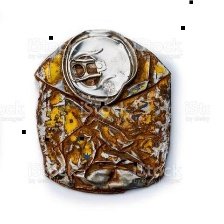can: (30, 26, 176, 199)
